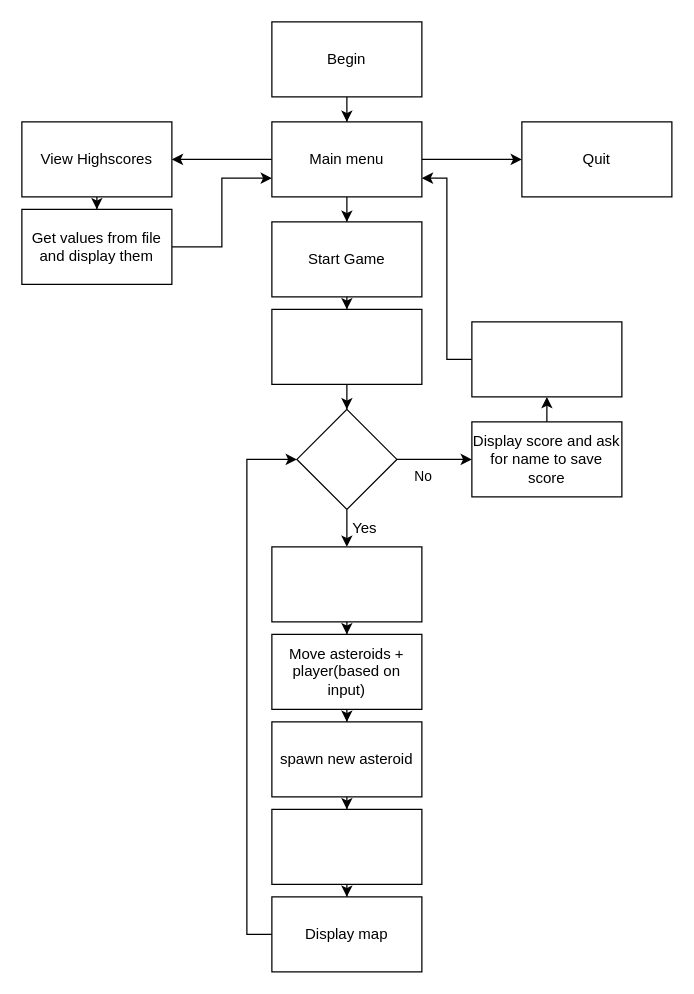
Some shapes in this 694 by 994 pixel diagram are drawn without their labels. Each missing label, with the centre of its shape:
Alive?: the point at 346,458
Check Collisions between asteroids scrap and player: the point at 346,846
Choose difficulty and set Values: the point at 346,346
get input: the point at 346,584
save score: the point at 546,359
